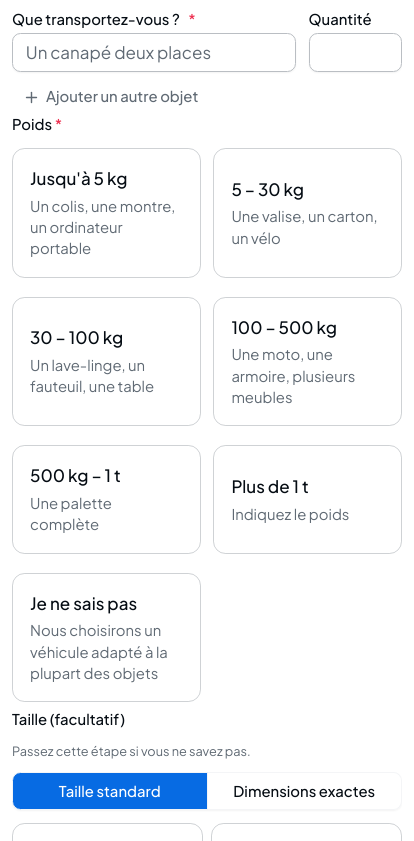
Test: what and how many › lets a row's quantity be emptied and retyped, and puts 1 back on blur
The width and height of the screenshot is (414, 841).
Type "Canapé" into the field labelled "Que transportez-vous ?" at (154, 52), box [12,33,296,72]
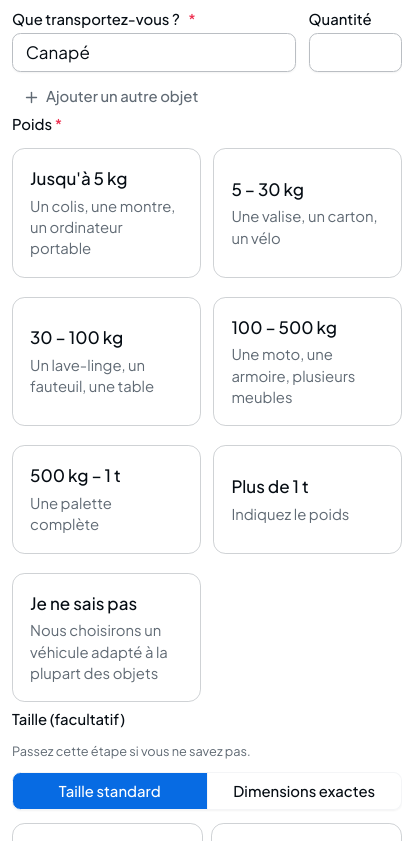
Click the button "Ajouter un autre objet" at (110, 97), box [12,80,209,114]
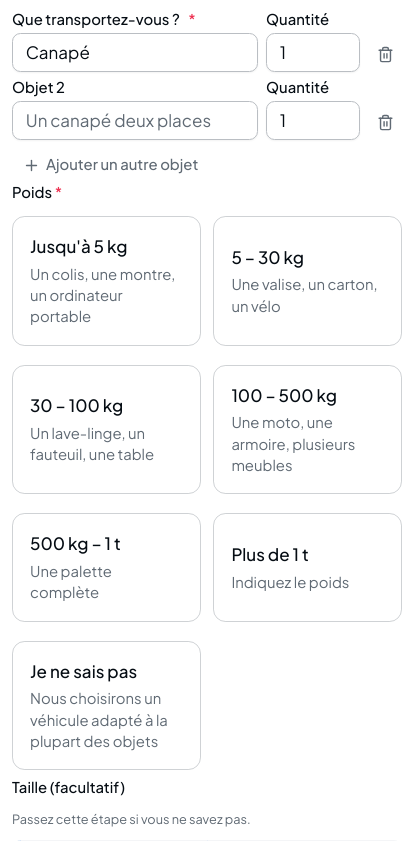
Clear the field labelled "Quantité" below "Que transportez-vous ?" at (313, 52), box [266,33,360,72]
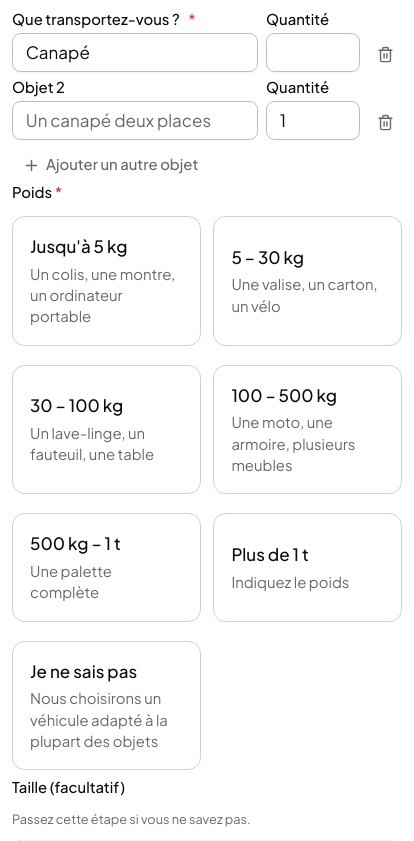
Type "2" into the field labelled "Quantité" below "Que transportez-vous ?" at (313, 52), box [266,33,360,72]
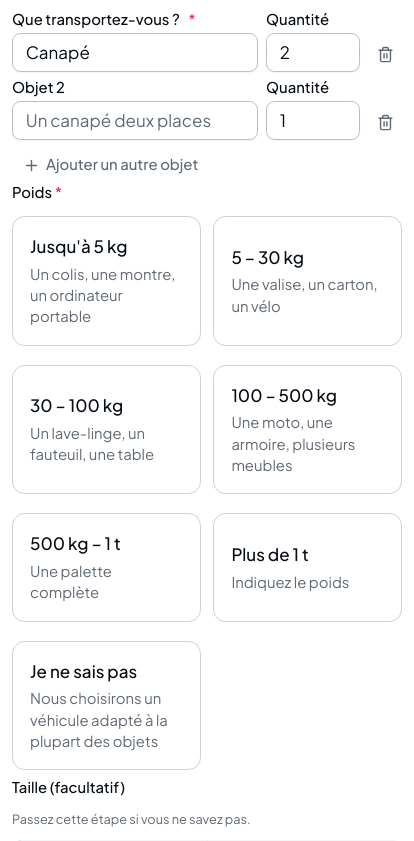
Clear the field labelled "Quantité" below "Que transportez-vous ?" at (313, 52), box [266,33,360,72]
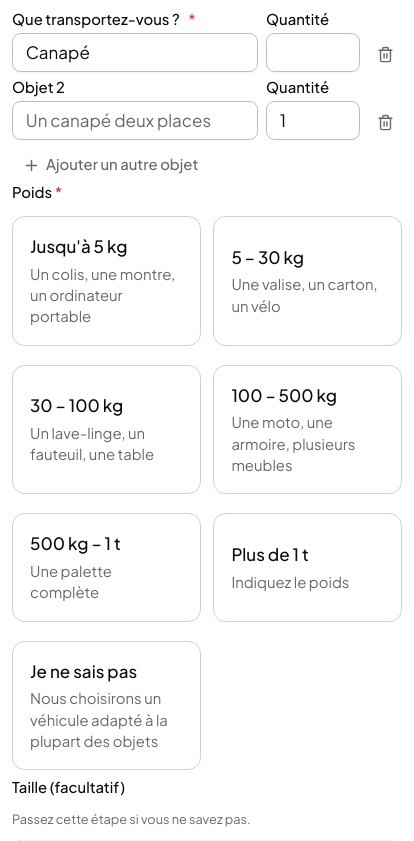
Leave the field labelled "Quantité" below "Que transportez-vous ?", box [266,33,360,72]
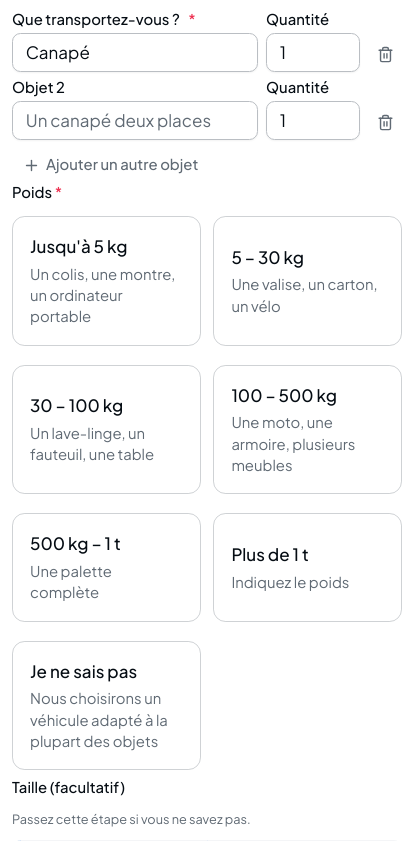
Now the field labelled "Quantité" below "Que transportez-vous ?" holds "1", box [266,33,360,72]
